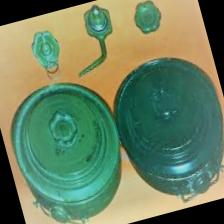TM-46: (101, 36, 224, 208), (0, 70, 135, 224)
